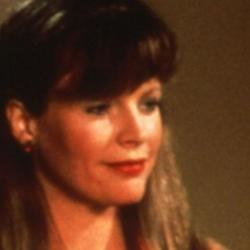face: (3, 4, 191, 227)
